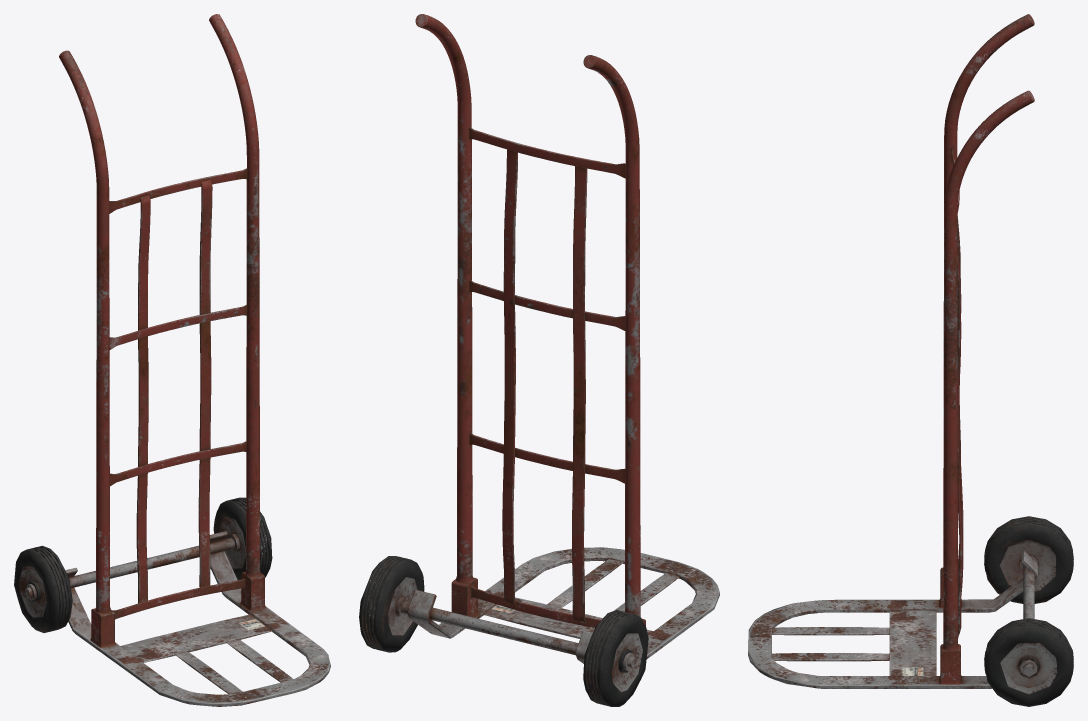
File: hand_truck_1k.gltf
3 renders of one model, left to right at view 1: azimuth 30°, elevation 25°; view 2: azimuth 150°, elevation 25°; view 3: azimuth 270°, elevation 25°, orthographic. The views are drawn at different scales.
Parts seen in each view (by area): view 1: hand_truck; view 2: hand_truck; view 3: hand_truck.
Boxes of the visible parts, box(x1,y1,x2,y2) form: hand_truck: box(14, 14, 330, 706); hand_truck: box(359, 14, 719, 706); hand_truck: box(748, 14, 1073, 706).
Bounding box in the file's own units: 0.5933 × 1.4 × 0.6922.
Materials: 1 (1 with a texture image).
